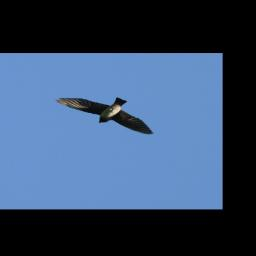Swallow: (54, 93, 154, 136)
